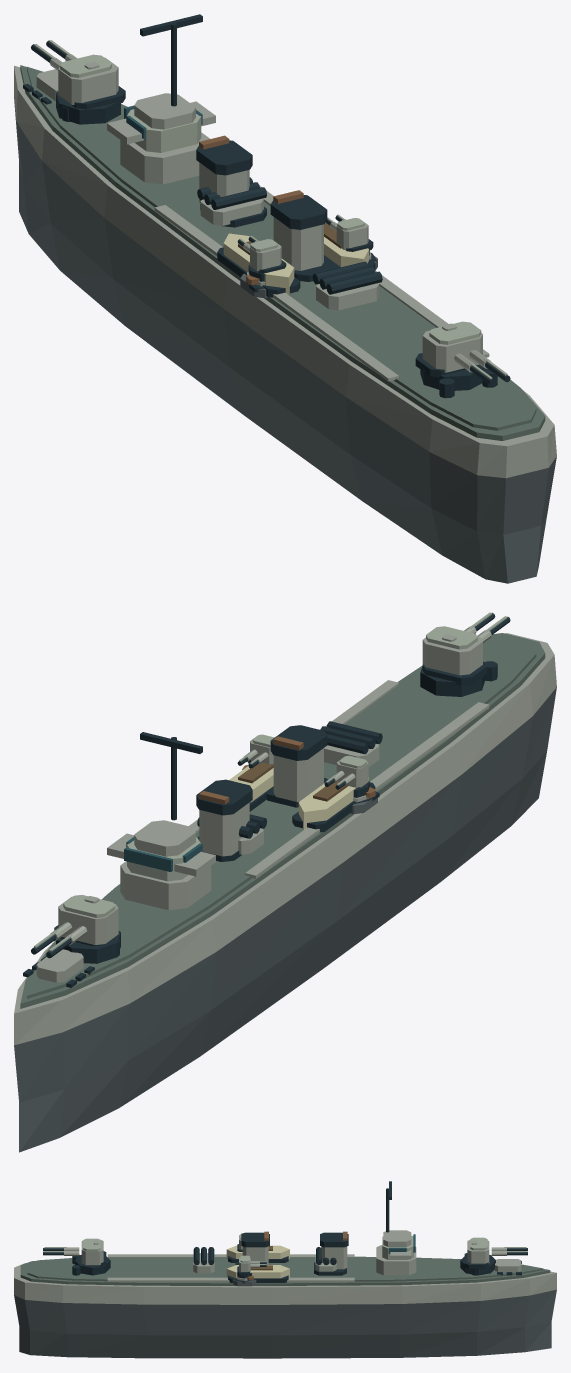
File: historic-maestrale.glb
The picture shows the model from 3 angles, top to bottom: view 1: azimuth 30°, elevation 25°; view 2: azimuth 150°, elevation 25°; view 3: azimuth 270°, elevation 25°; orthographic projection. The views are drawn at different scales.
Parts seen in each view (by area): view 1: historic-maestrale-historic-maestrale-geometry, historic-maestrale-part_bridge.040-geometry, historic-maestrale-turret_main_0.030-geometry, historic-maestrale-turret_main_1.029-geometry, historic-maestrale-historic_funnel_1.020-geometry, historic-maestrale-historic_funnel_0.041-geometry, historic-maestrale-torpedo_bank_0.007-geometry, historic-maestrale-torpedo_bank_1.006-geometry, historic-maestrale-turret_aa_aa-port.042-geometry, historic-maestrale-turret_aa_aa-starboard.040-geometry; view 2: historic-maestrale-historic-maestrale-geometry, historic-maestrale-part_bridge.040-geometry, historic-maestrale-turret_main_1.029-geometry, historic-maestrale-turret_main_0.030-geometry, historic-maestrale-historic_funnel_1.020-geometry, historic-maestrale-historic_funnel_0.041-geometry, historic-maestrale-torpedo_bank_0.007-geometry, historic-maestrale-turret_aa_aa-port.042-geometry, historic-maestrale-torpedo_bank_1.006-geometry, historic-maestrale-turret_aa_aa-starboard.040-geometry; view 3: historic-maestrale-historic-maestrale-geometry, historic-maestrale-part_bridge.040-geometry, historic-maestrale-turret_main_0.030-geometry, historic-maestrale-turret_main_1.029-geometry, historic-maestrale-historic_funnel_0.041-geometry, historic-maestrale-historic_funnel_1.020-geometry, historic-maestrale-torpedo_bank_0.007-geometry, historic-maestrale-turret_aa_aa-starboard.040-geometry, historic-maestrale-torpedo_bank_1.006-geometry.
Part boxes in pixels (left/top/right/bottom): historic-maestrale-historic-maestrale-geometry: left=14, top=65, right=556, bottom=583; historic-maestrale-part_bridge.040-geometry: left=107, top=14, right=215, bottom=184; historic-maestrale-turret_main_0.030-geometry: left=31, top=40, right=125, bottom=124; historic-maestrale-turret_main_1.029-geometry: left=415, top=321, right=510, bottom=390; historic-maestrale-historic_funnel_1.020-geometry: left=270, top=190, right=338, bottom=281; historic-maestrale-historic_funnel_0.041-geometry: left=196, top=135, right=266, bottom=227; historic-maestrale-torpedo_bank_0.007-geometry: left=312, top=261, right=382, bottom=310; historic-maestrale-torpedo_bank_1.006-geometry: left=197, top=177, right=266, bottom=225; historic-maestrale-turret_aa_aa-port.042-geometry: left=237, top=235, right=286, bottom=281; historic-maestrale-turret_aa_aa-starboard.040-geometry: left=325, top=214, right=373, bottom=255; historic-maestrale-historic-maestrale-geometry: left=14, top=633, right=556, bottom=1152; historic-maestrale-part_bridge.040-geometry: left=107, top=732, right=215, bottom=910; historic-maestrale-turret_main_1.029-geometry: left=420, top=612, right=510, bottom=696; historic-maestrale-turret_main_0.030-geometry: left=31, top=895, right=120, bottom=963; historic-maestrale-historic_funnel_1.020-geometry: left=266, top=725, right=327, bottom=807; historic-maestrale-historic_funnel_0.041-geometry: left=196, top=779, right=252, bottom=861; historic-maestrale-torpedo_bank_0.007-geometry: left=320, top=721, right=382, bottom=766; historic-maestrale-turret_aa_aa-port.042-geometry: left=324, top=755, right=369, bottom=797; historic-maestrale-torpedo_bank_1.006-geometry: left=197, top=814, right=266, bottom=854; historic-maestrale-turret_aa_aa-starboard.040-geometry: left=237, top=734, right=274, bottom=768; historic-maestrale-historic-maestrale-geometry: left=14, top=1245, right=556, bottom=1358; historic-maestrale-part_bridge.040-geometry: left=376, top=1181, right=416, bottom=1275; historic-maestrale-turret_main_0.030-geometry: left=460, top=1237, right=527, bottom=1275; historic-maestrale-turret_main_1.029-geometry: left=43, top=1238, right=110, bottom=1275; historic-maestrale-historic_funnel_0.041-geometry: left=314, top=1231, right=348, bottom=1275; historic-maestrale-historic_funnel_1.020-geometry: left=235, top=1231, right=269, bottom=1264; historic-maestrale-torpedo_bank_0.007-geometry: left=193, top=1247, right=214, bottom=1273; historic-maestrale-turret_aa_aa-starboard.040-geometry: left=237, top=1255, right=266, bottom=1278; historic-maestrale-torpedo_bank_1.006-geometry: left=315, top=1247, right=336, bottom=1271.
Size of the model in its own units: 0.5814 by 1.33 by 4.11.
